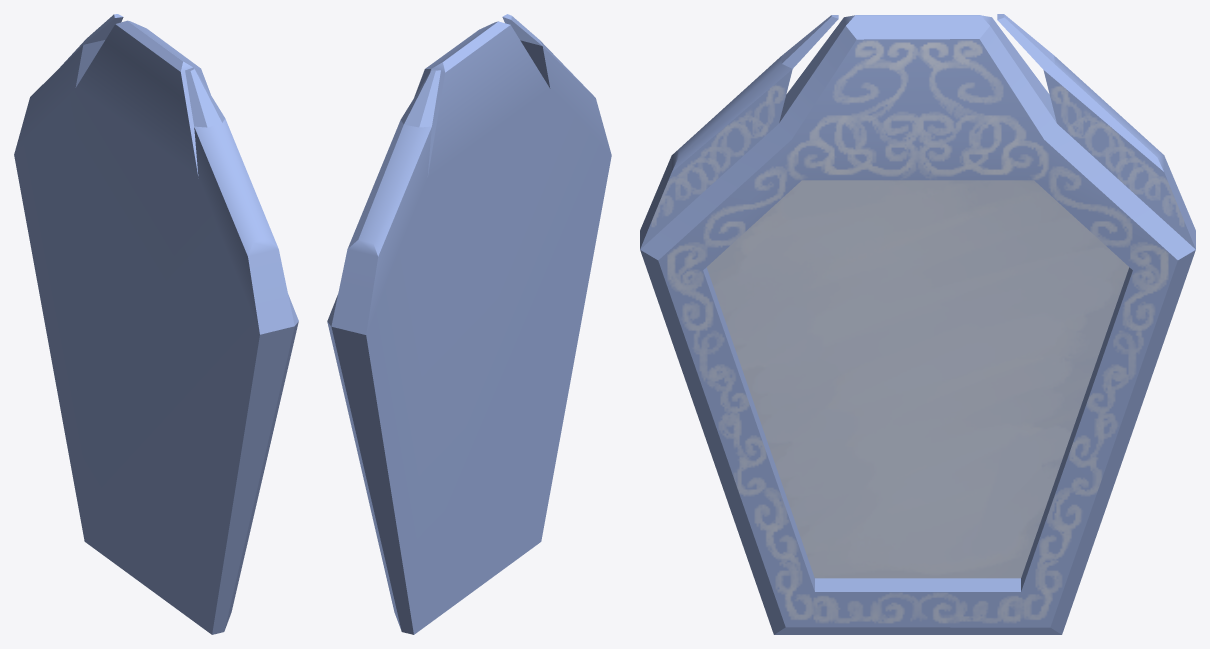
File: Mirror_Entry_01.fbx
3 views of the same model, side by side, from view 1: azimuth 30°, elevation 25°; view 2: azimuth 150°, elevation 25°; view 3: azimuth 270°, elevation 25° (orthographic). The views are drawn at different scales.
Parts seen in each view (by area): view 1: Mirror_01; view 2: Mirror_01; view 3: Mirror_01.
Boxes of the visible parts, x1,y1,x2,y2 form: Mirror_01: (14,14,298,634); Mirror_01: (327,14,611,634); Mirror_01: (640,14,1195,634).
Size of the model in its own units: 0.1103 by 1.22 by 1.
